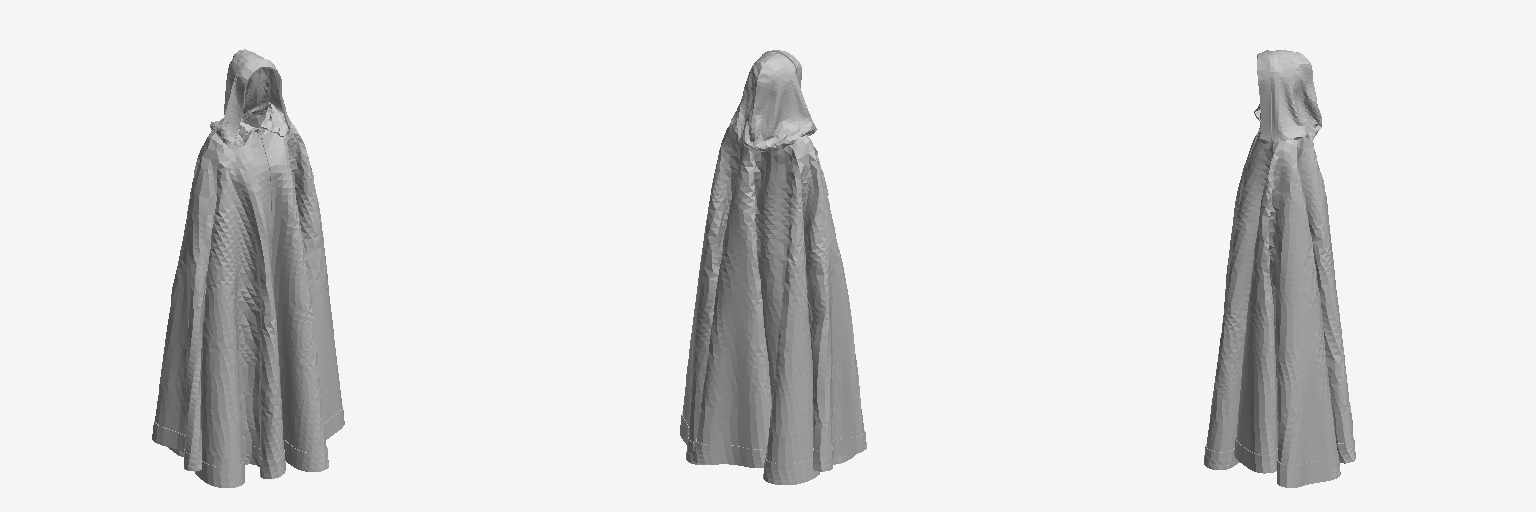
Rendered from cloak.obj.
The picture shows the model from 3 angles: view 1: azimuth 30°, elevation 25°; view 2: azimuth 150°, elevation 25°; view 3: azimuth 270°, elevation 25°; orthographic projection.
Parts seen in each view (by area): view 1: Cloak; view 2: Cloak; view 3: Cloak.
Boxes of the visible parts, <box> form: Cloak: <box>152,49,344,487</box>; Cloak: <box>680,50,866,484</box>; Cloak: <box>1204,50,1355,487</box>.
Size of the model in its own units: 80.1 by 184 by 63.32.